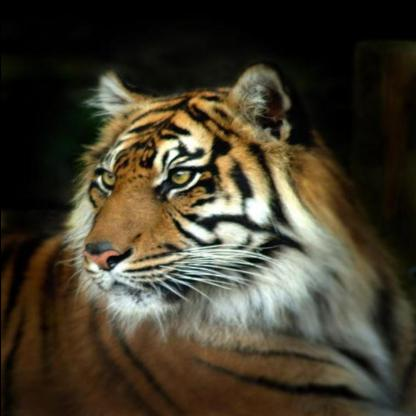tiger: (23, 75, 319, 356)
